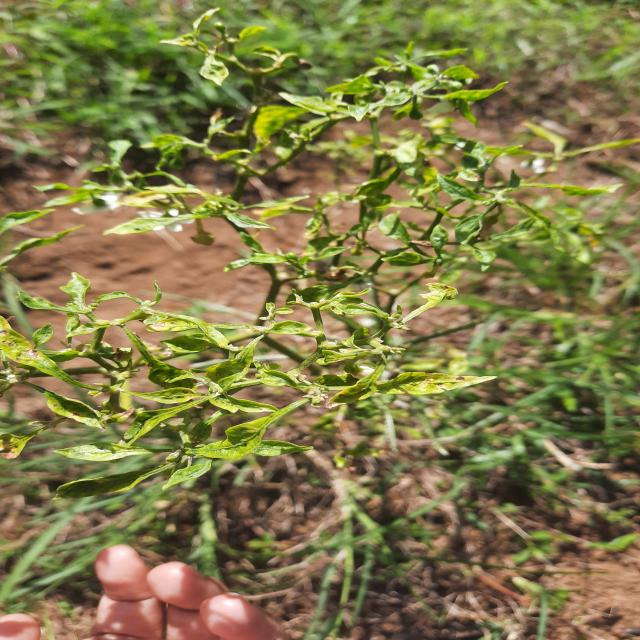virus_kuning: (195, 413, 276, 461)
